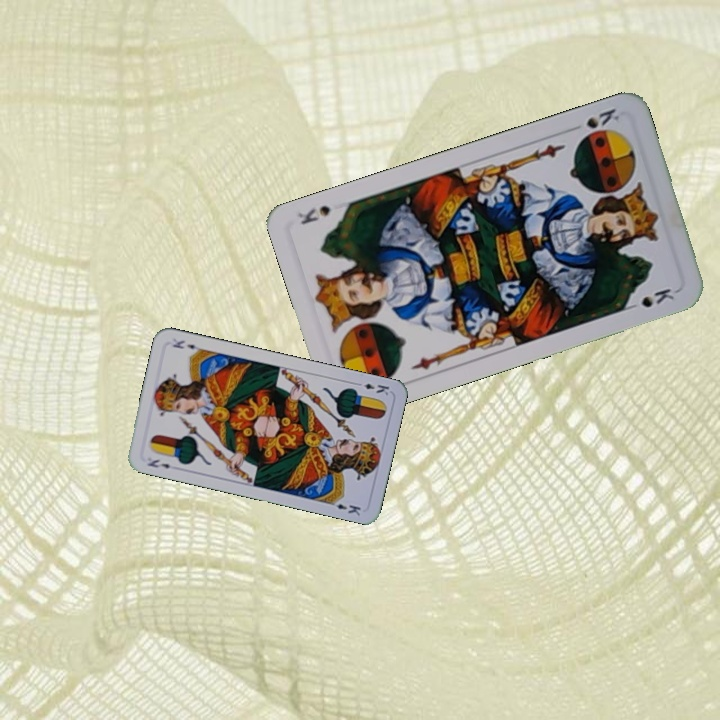EK: (351, 378, 392, 398), (143, 455, 172, 471)
SK: (582, 104, 622, 131)
